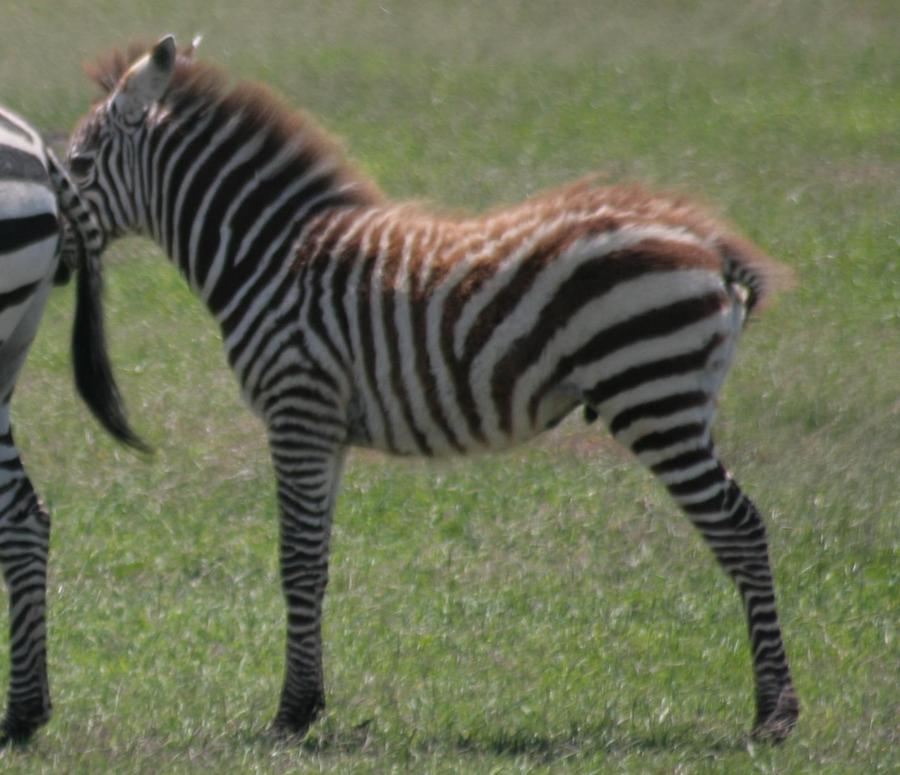zebra_plains: (217, 161, 769, 475)
